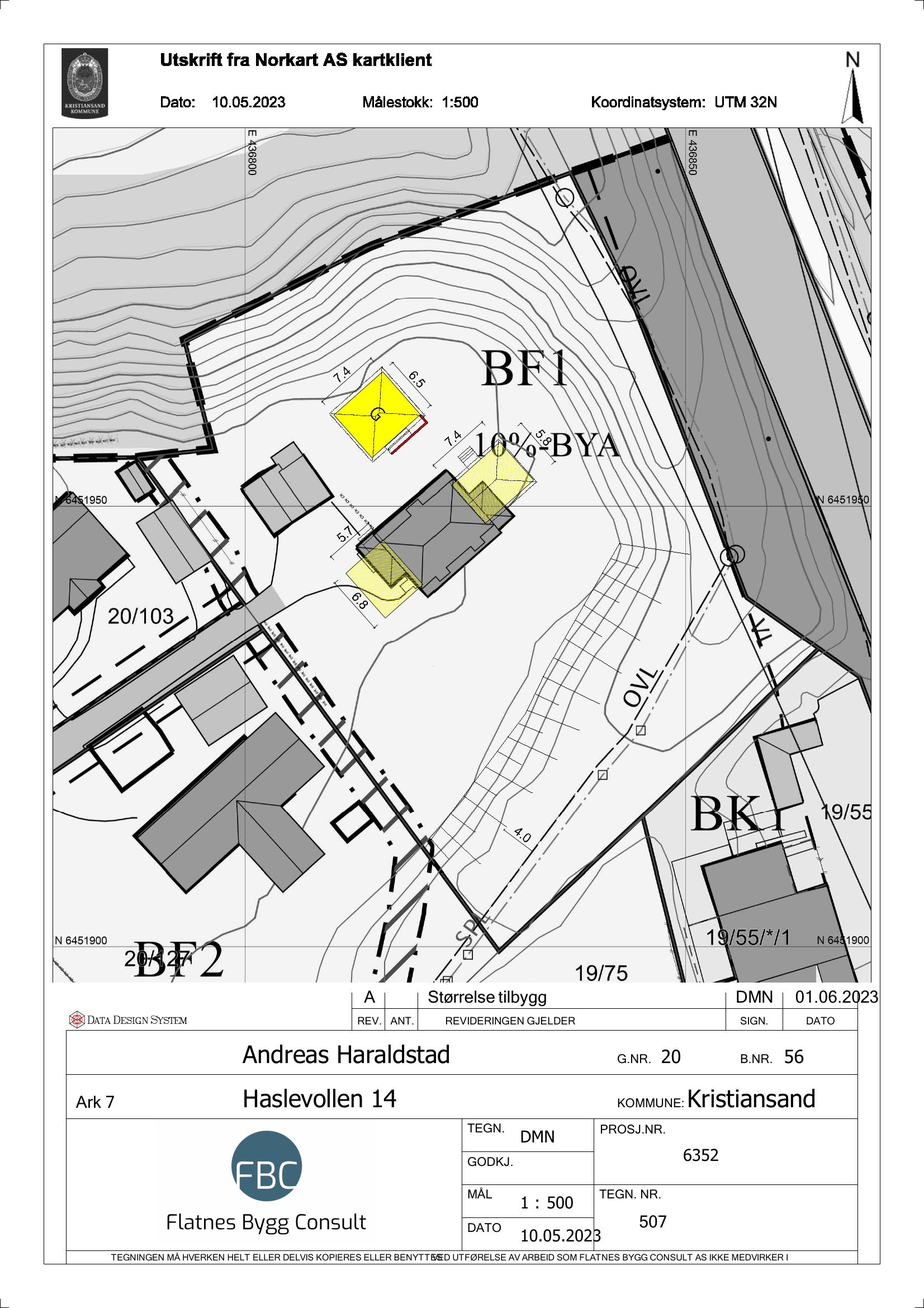situasjonskart: (49, 133, 877, 984)
tekst: (359, 90, 485, 110), (512, 1192, 579, 1213)
